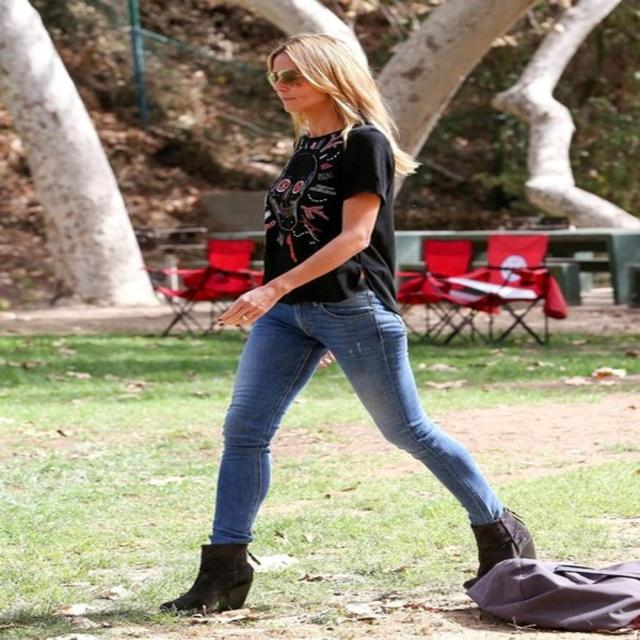Face: (264, 46, 355, 125)
